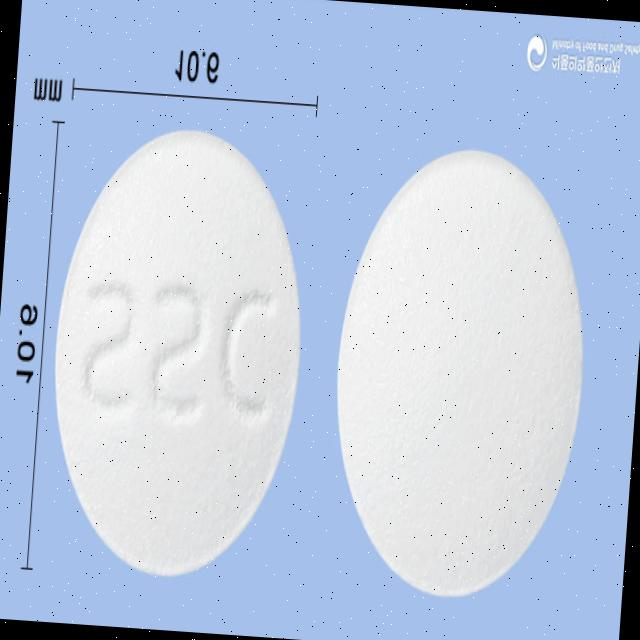Ciprofloxacin Tab- Samsung: (36, 118, 322, 590)
